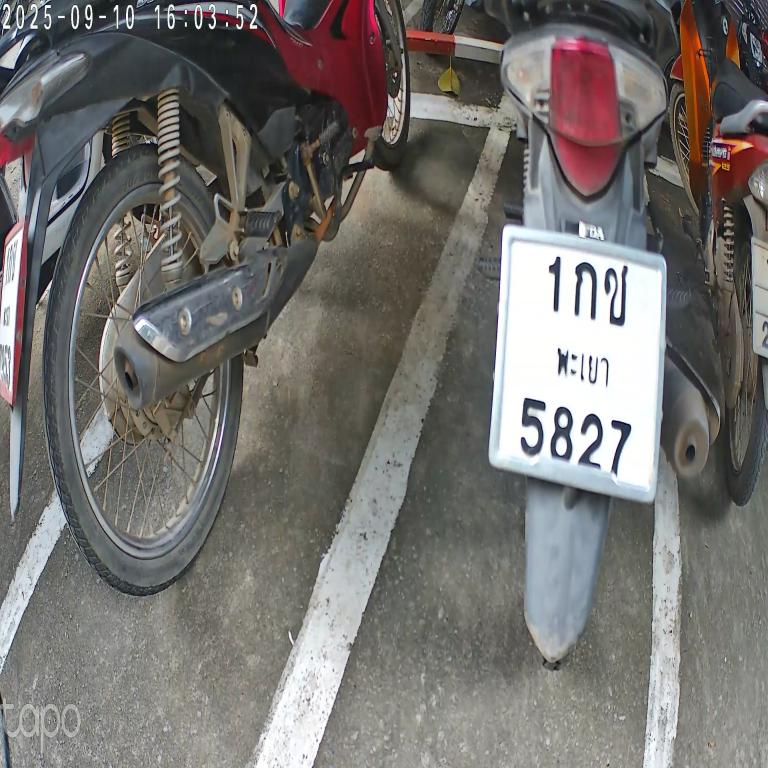license plate: (483, 214, 669, 524), (0, 199, 37, 413)
